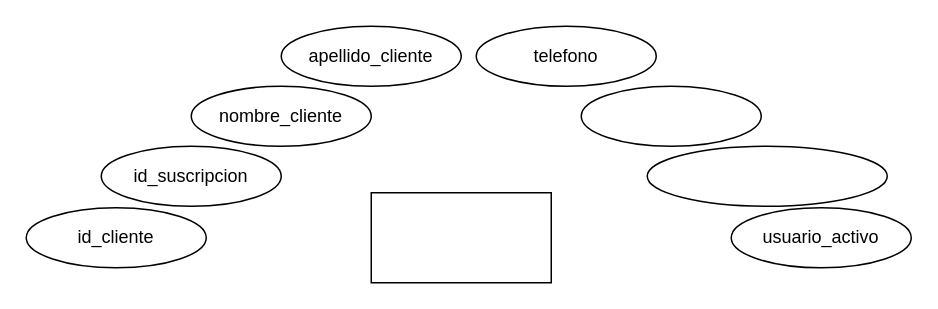
The diagram is 938 pixels wide and 309 high, and some of its shapes have lost their labels. Here are the shapes that lost their labels. From the top down, the box of each, then its label:
(580, 85, 761, 146): email
(646, 145, 887, 206): dia_de_pago_suscripcion
(370, 191, 551, 283): cliente
